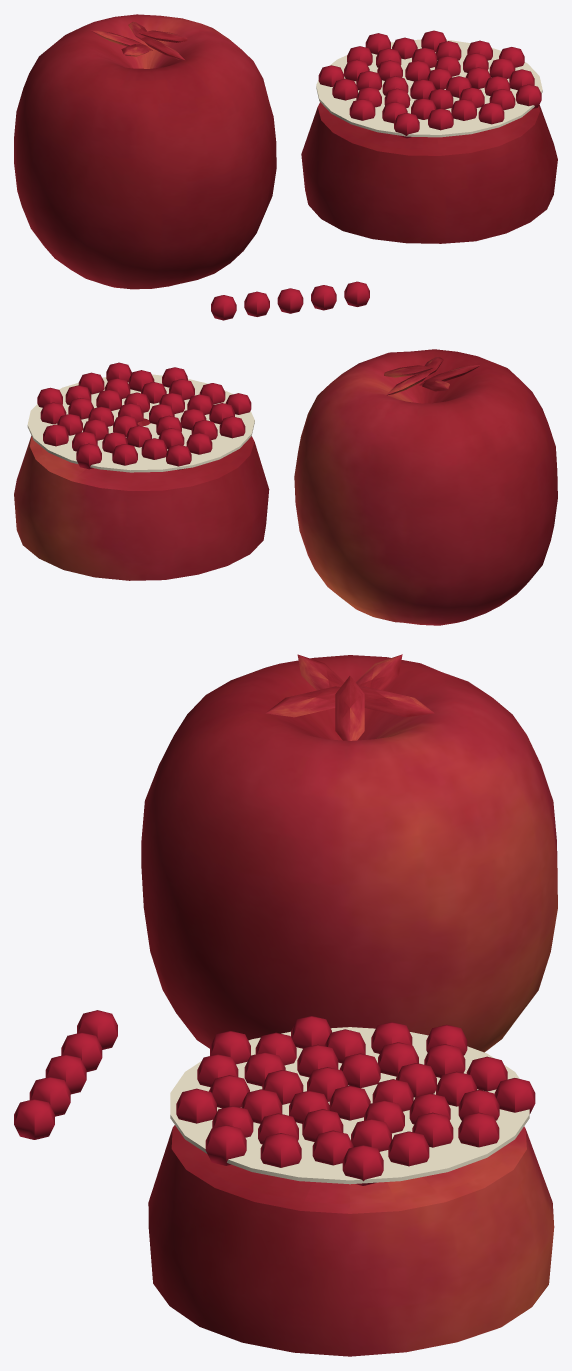
Rendered from fruit_pomegranate_open.glb.
3 views of the same model, one above another, from view 1: azimuth 30°, elevation 25°; view 2: azimuth 150°, elevation 25°; view 3: azimuth 270°, elevation 25° (orthographic). The views are drawn at different scales.
Visible parts, largest first — view 1: fruit_pomegranate_open; view 2: fruit_pomegranate_open; view 3: fruit_pomegranate_open.
Part boxes in pixels (left/top/right/bottom): fruit_pomegranate_open: left=14, top=14, right=557, bottom=320; fruit_pomegranate_open: left=14, top=349, right=557, bottom=625; fruit_pomegranate_open: left=14, top=654, right=557, bottom=1356.
Bounding box in the file's own units: 0.1788 × 0.0778 × 0.1034.
Materials: 3 (1 with a texture image).
